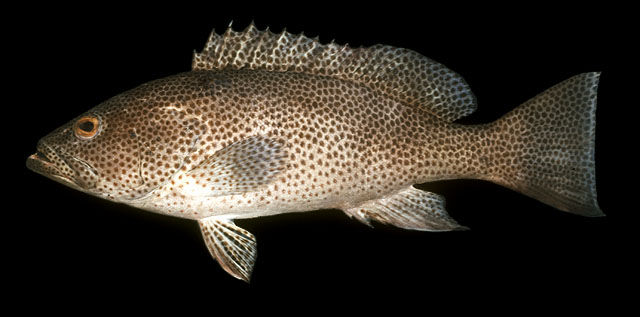fish: (26, 20, 607, 283)
